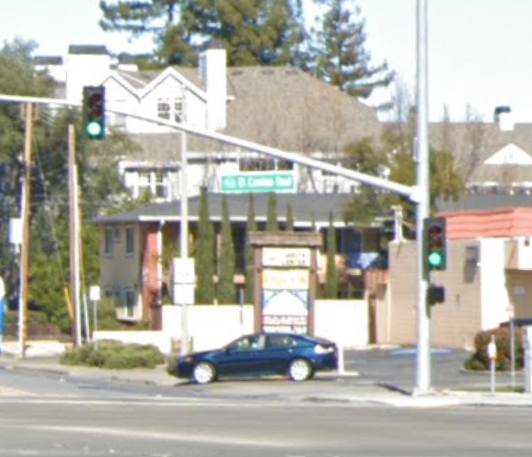green_light: (84, 87, 105, 139), (424, 220, 444, 268)
